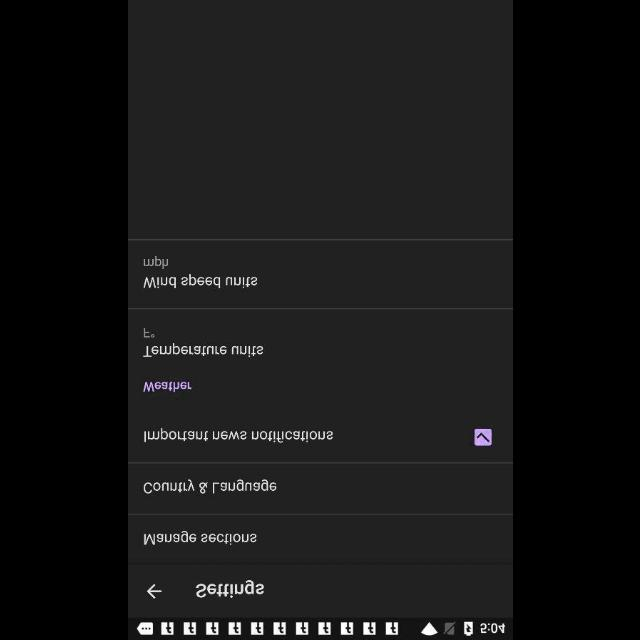checkbox: (474, 428, 491, 446)
icon: (146, 582, 162, 598)
text: (144, 428, 332, 442), (143, 478, 277, 494), (142, 342, 264, 358), (143, 273, 257, 289), (144, 530, 256, 544), (196, 578, 264, 598), (142, 380, 192, 392), (144, 255, 168, 269), (143, 327, 155, 338)
uppertaskbar: (128, 617, 512, 639)
